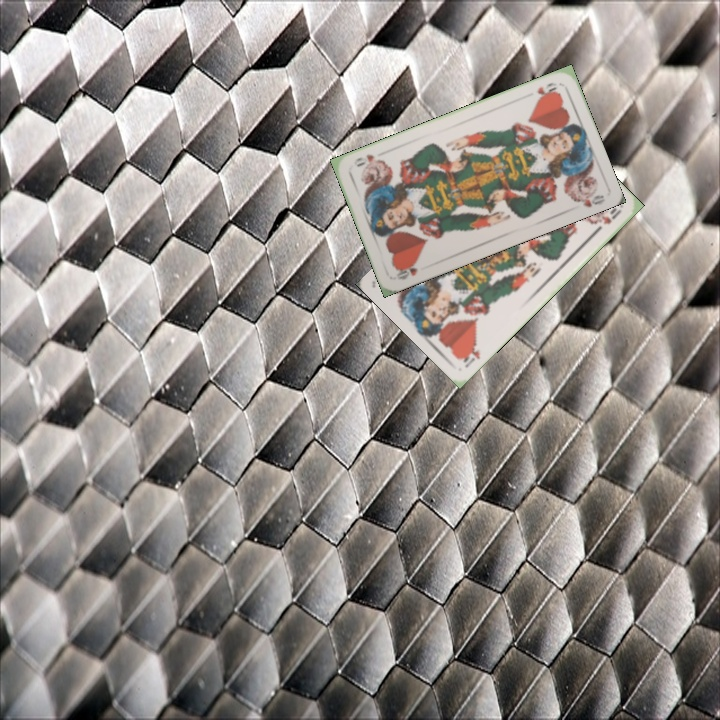HO: (456, 340, 483, 371), (532, 78, 560, 102), (392, 258, 420, 282)
